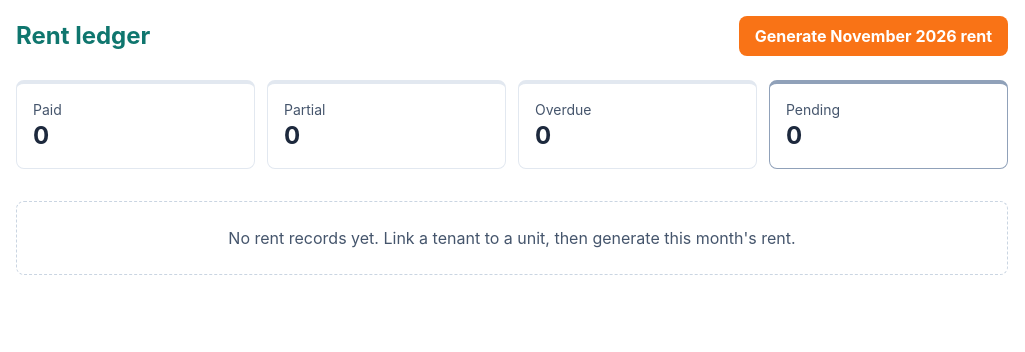
RentLedger page › says so when there is nothing new to generate
Click the button "Generate November 2026 rent". click: (873, 36)
box: [739,16,1008,56]
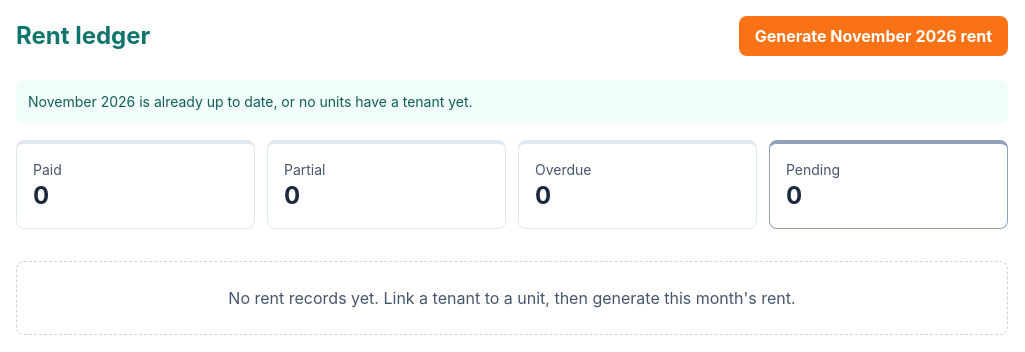
Expected: the message shows "already up to date", [28,93,473,110]
